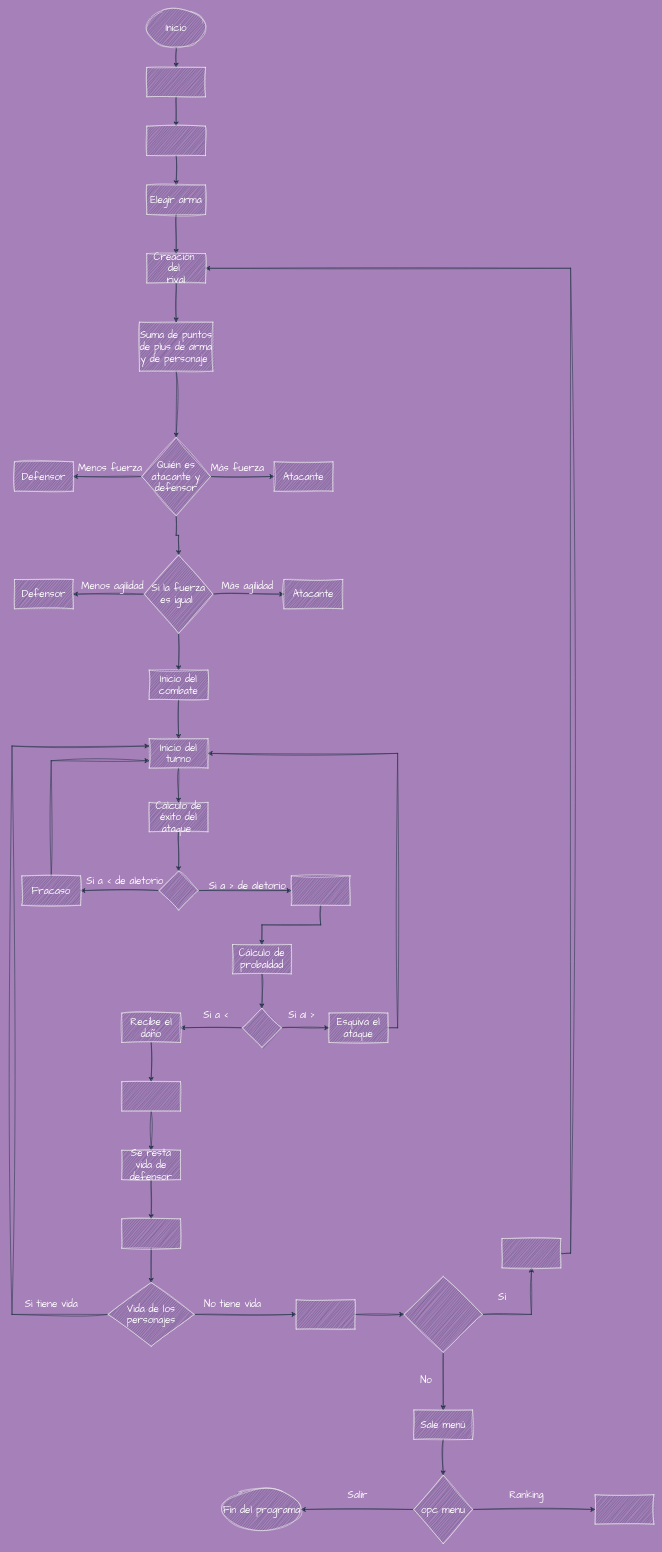
Image size: 662x1552. Some labels were removed from this diagram. Here are the shapes that lost their labels. From the top down, the centre of each, then its label:
[176,82]: Inicia sesión/ crear usuario
[176,141]: Elegir personaje
[178,890]: a * 100
[320,890]: Éxito
[262,1027]: a1
[151,1096]: Calcula el daño total
[151,1233]: Fin del turno
[531,1253]: Reinicia stats
[325,1314]: Fin del combate
[443,1314]: ¿Volver a jugar?
[624,1509]: Muestra el Ranking
